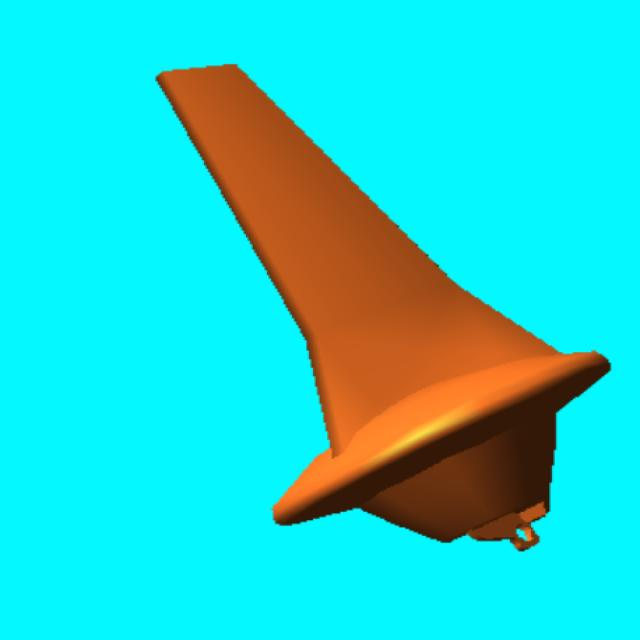OrangeBuoy: (157, 65, 608, 549)
